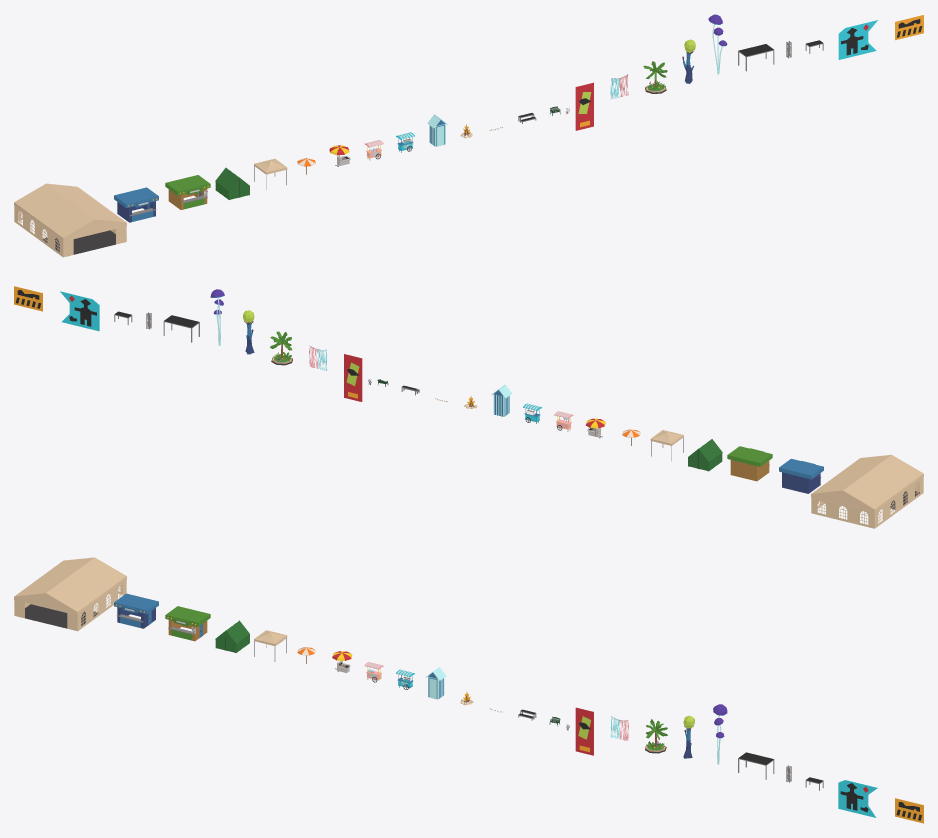
The model's file is festival-models.glb.
The picture shows the model from 3 angles, top to bottom: view 1: azimuth 30°, elevation 25°; view 2: azimuth 150°, elevation 25°; view 3: azimuth 330°, elevation 25°; orthographic projection.
Parts seen in each view (by area): view 1: tent-party-big, coffee-stall, information-stall, scifi-projection-g, scifi-projection-f, tent-war, scifi-projection-d; view 2: tent-party-big, coffee-stall, information-stall, scifi-projection-g, scifi-projection-f, tent-war, scifi-projection-d; view 3: tent-party-big, coffee-stall, information-stall, scifi-projection-g, scifi-projection-f, tent-war.
Part boxes in pixels (x1,y1,x2,y2): tent-party-big: [14, 183, 126, 257]; coffee-stall: [165, 175, 210, 209]; information-stall: [114, 187, 158, 222]; scifi-projection-g: [838, 20, 877, 59]; scifi-projection-f: [575, 82, 593, 130]; tent-war: [215, 167, 249, 199]; scifi-projection-d: [895, 15, 923, 40]; tent-party-big: [811, 454, 923, 528]; coffee-stall: [727, 446, 772, 481]; information-stall: [779, 458, 823, 493]; scifi-projection-g: [60, 291, 99, 331]; scifi-projection-f: [344, 354, 362, 401]; tent-war: [688, 439, 722, 471]; scifi-projection-d: [14, 286, 42, 311]; tent-party-big: [14, 557, 126, 631]; coffee-stall: [165, 606, 210, 641]; information-stall: [114, 593, 158, 628]; scifi-projection-g: [838, 780, 877, 817]; scifi-projection-f: [575, 707, 593, 755]; tent-war: [215, 620, 249, 652].
Size of the model in its own units: 126 by 10.75 by 12.08.
1 material, 1 textured.
